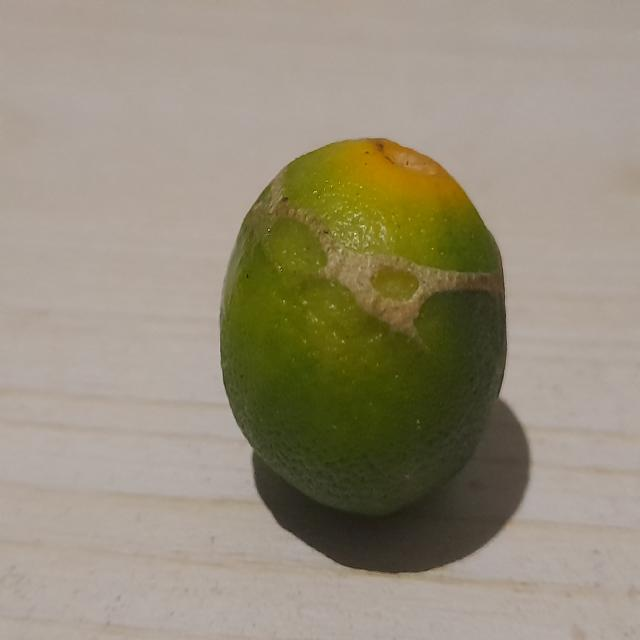thrips: (220, 122, 510, 515)
